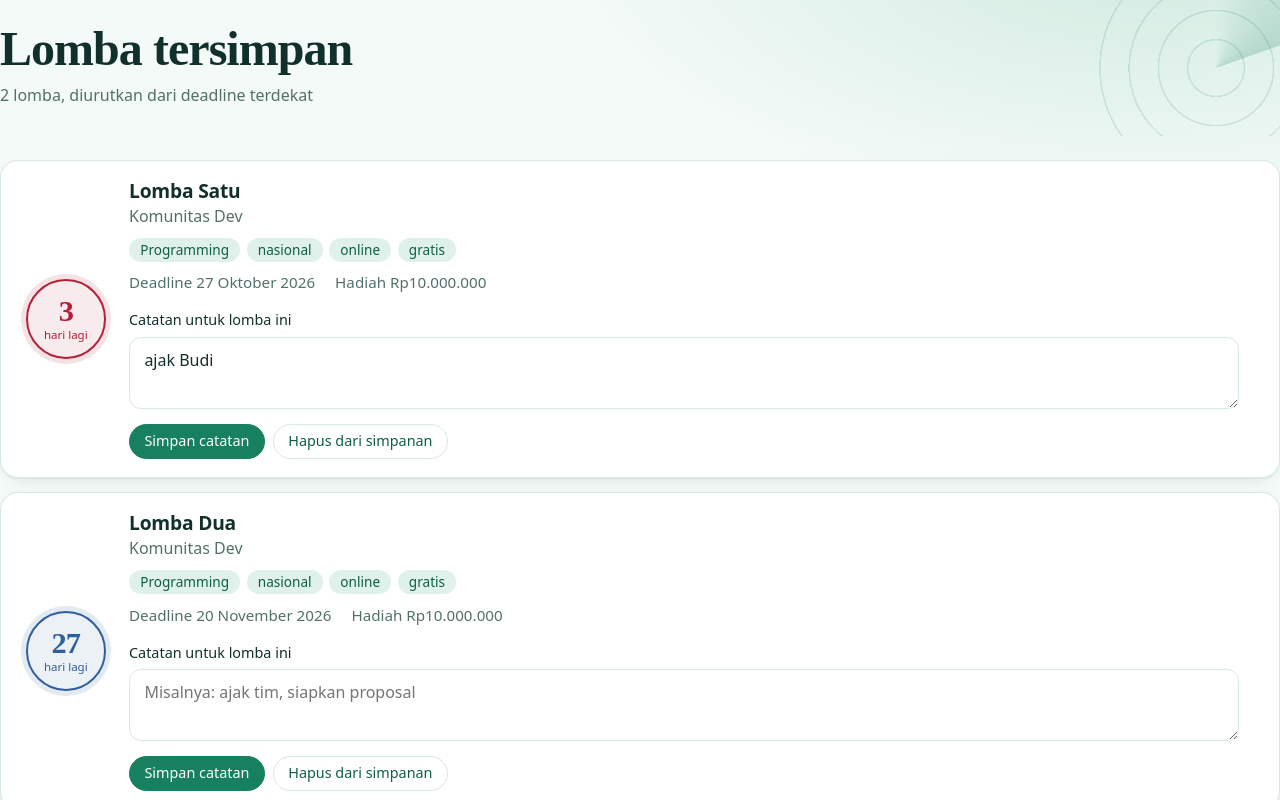
Test: Tersimpan › "Hapus dari simpanan" memanggil API dan membuang kartu dari daftar
The width and height of the screenshot is (1280, 800).
Expected: the link "Lomba Satu" is shown, [129, 177, 240, 204]
Click the button "Hapus dari simpanan" below "27 Oktober 2026" at coordinates (360, 441), box [273, 424, 448, 459]
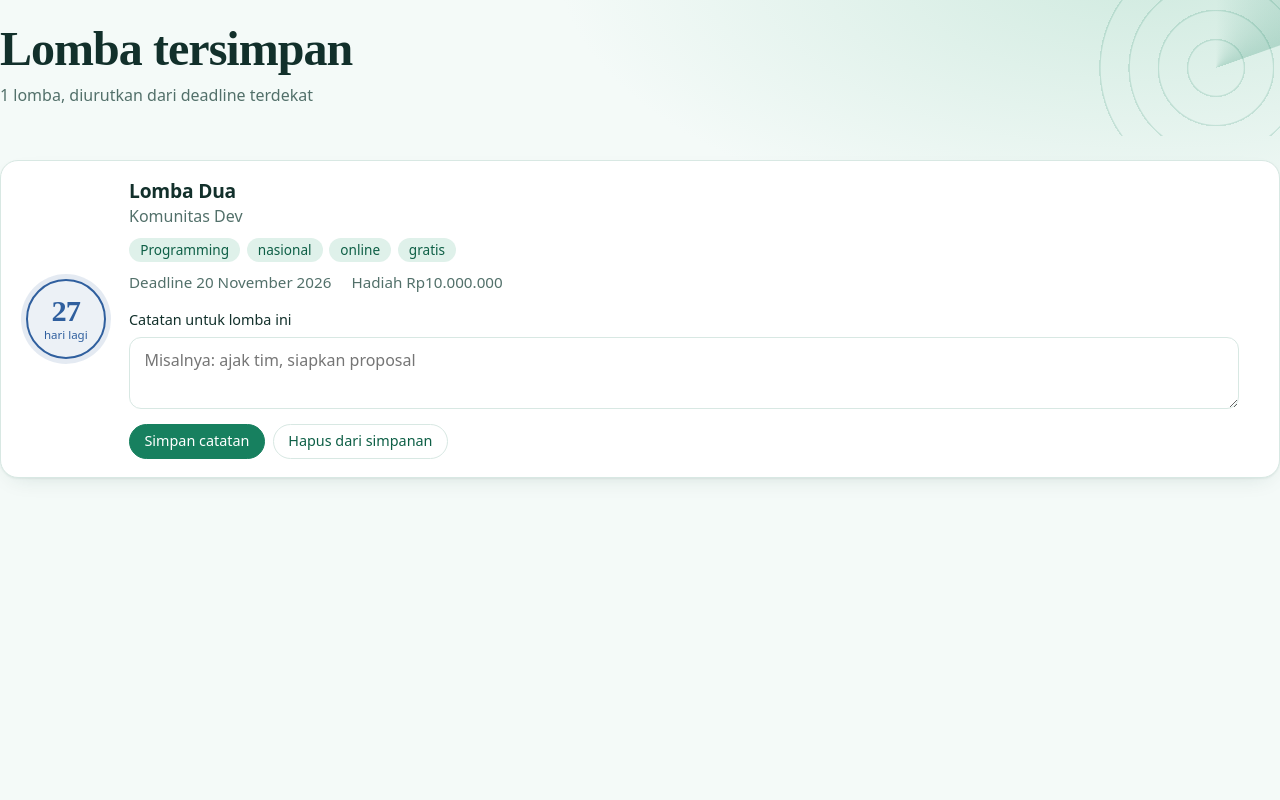
Expected: the link "Lomba Dua" is shown, [129, 177, 236, 204]
Now the link "Lomba Satu" is gone
